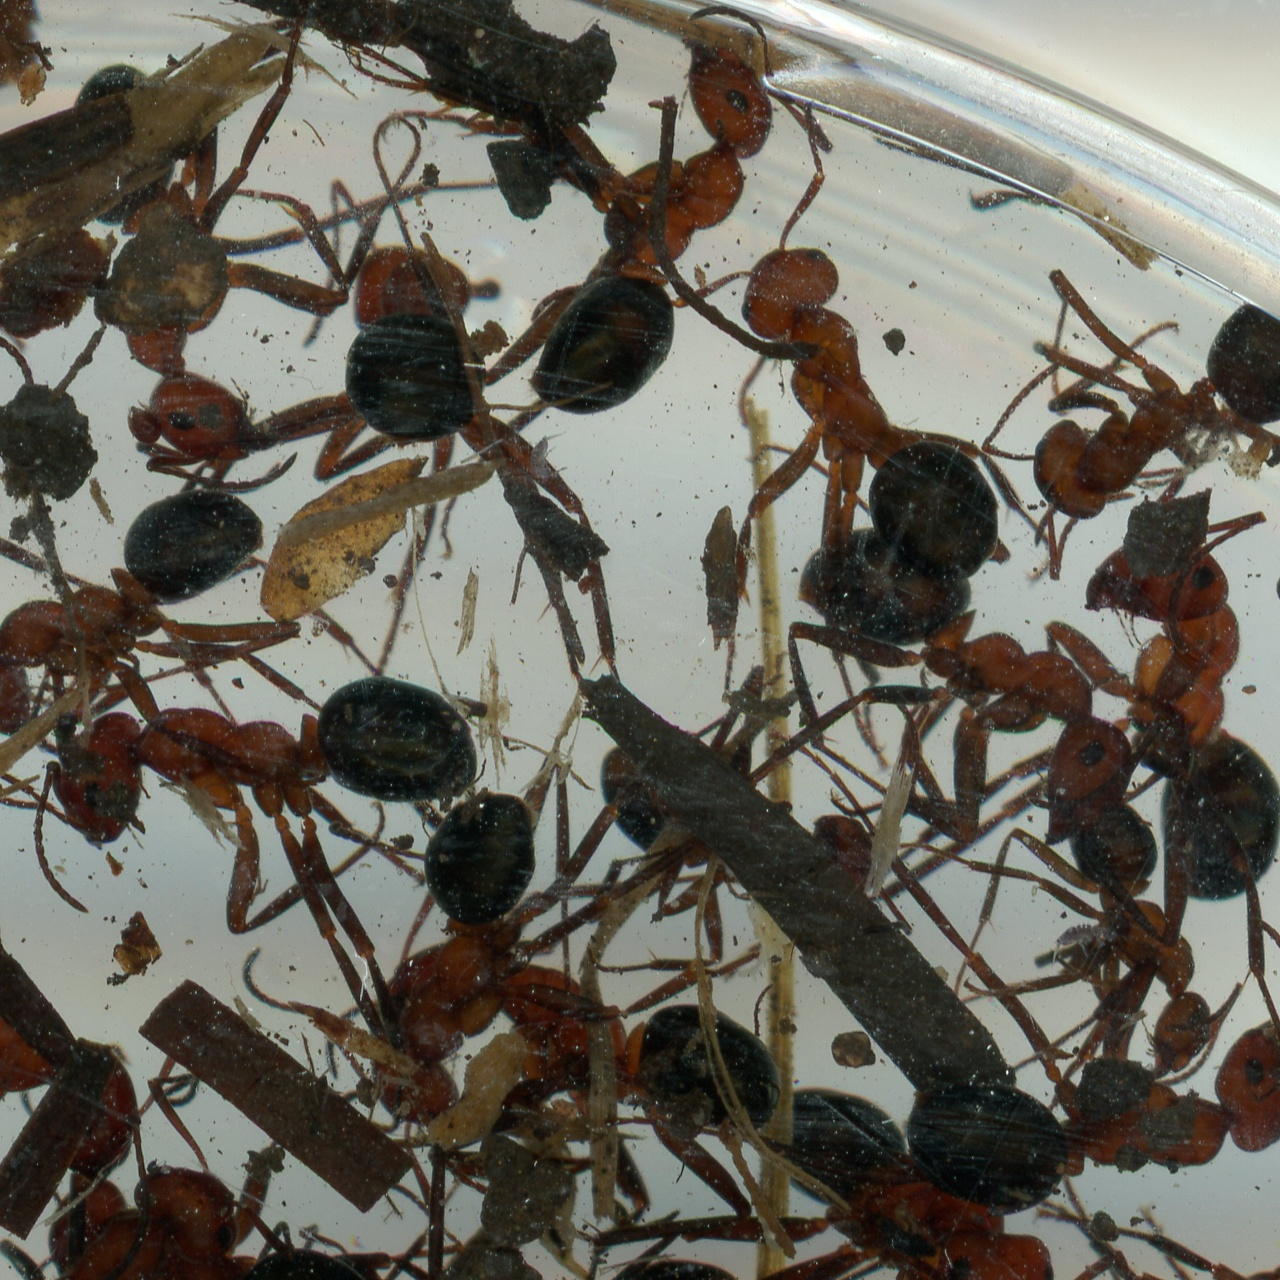arthropod: (575, 113, 1099, 682), (494, 0, 831, 472), (319, 922, 802, 1227), (62, 54, 357, 492), (28, 673, 487, 937), (778, 519, 1143, 847), (228, 782, 558, 1142), (903, 908, 1280, 1214), (557, 1073, 1078, 1280), (1075, 492, 1280, 977), (938, 776, 1246, 1067), (0, 474, 310, 749), (985, 256, 1280, 531), (0, 1082, 261, 1280), (328, 235, 525, 485), (380, 1200, 861, 1280), (0, 929, 71, 1267), (180, 1232, 419, 1280), (284, 1241, 560, 1280), (1049, 922, 1123, 973), (525, 425, 574, 487)
